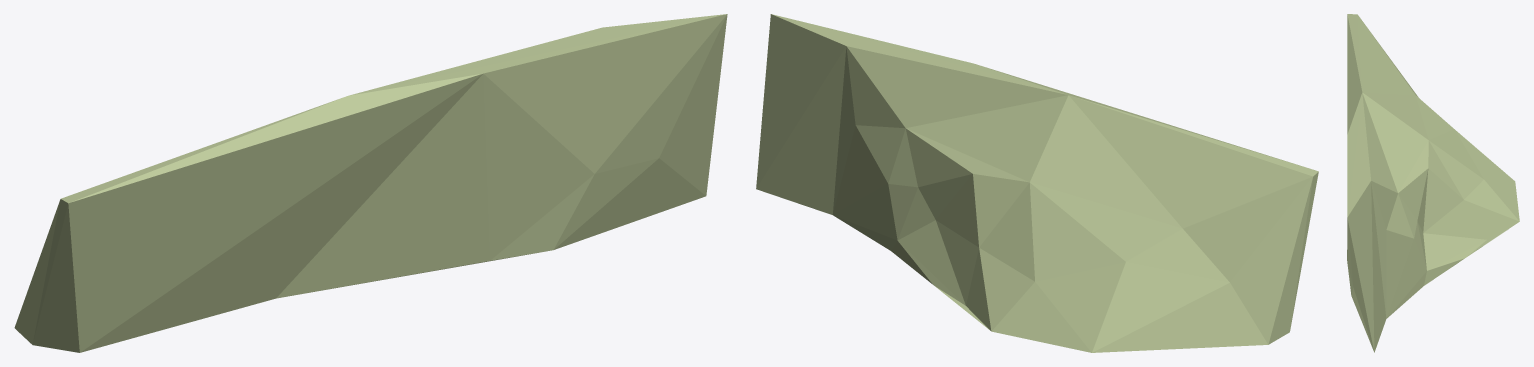
File: hill_6.gltf
3 renders of one model, left to right at view 1: azimuth 30°, elevation 25°; view 2: azimuth 150°, elevation 25°; view 3: azimuth 270°, elevation 25°, orthographic. The views are drawn at different scales.
Visible parts, largest first — view 1: hill; view 2: hill; view 3: hill.
Part boxes in pixels (bbox=[...]): hill: bbox=[14, 14, 727, 352]; hill: bbox=[756, 14, 1318, 352]; hill: bbox=[1347, 14, 1519, 352].
Bounding box in the file's own units: 7.1 × 2.02 × 2.32.
